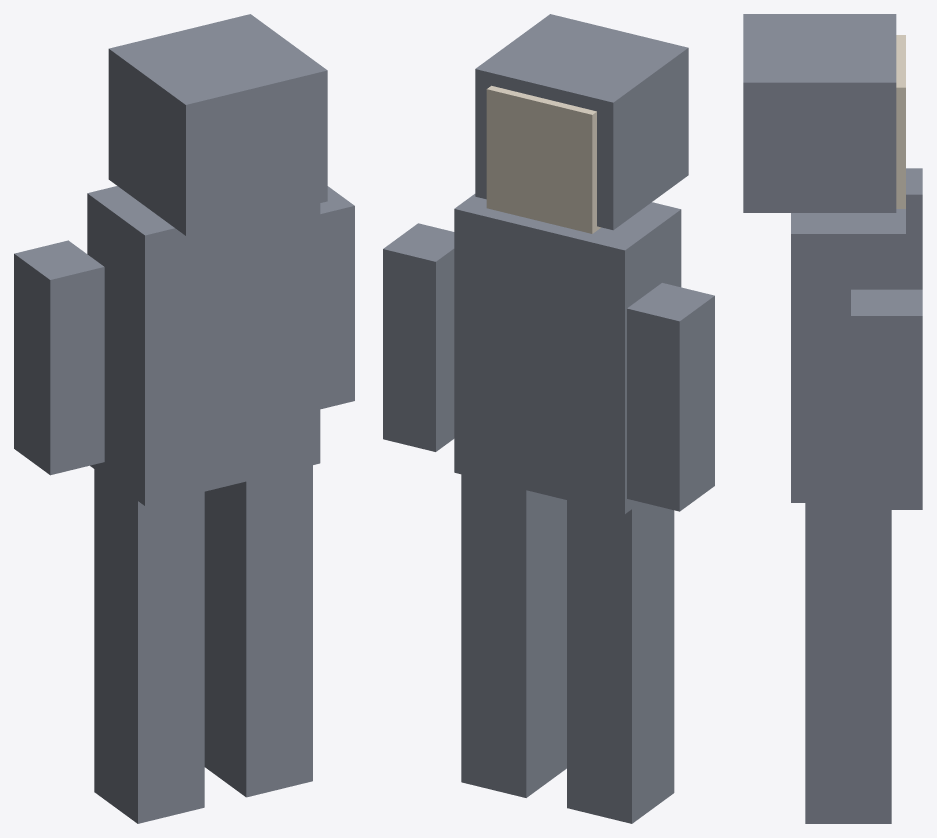
Rendered from npc_kapuze.glb.
3 renders of one model, left to right at view 1: azimuth 30°, elevation 25°; view 2: azimuth 150°, elevation 25°; view 3: azimuth 270°, elevation 25°, orthographic. The views are drawn at different scales.
Parts seen in each view (by area): view 1: rumpf, kapuze, bein_links, bein_rechts, arm_links, arm_rechts; view 2: rumpf, bein_links, bein_rechts, kapuze, arm_links, arm_rechts, kopf; view 3: kapuze, bein_rechts, rumpf, arm_rechts, arm_links, kopf.
Boxes of the visible parts, x1=… form: rumpf: x1=87, y1=186, x2=320, y2=505; kapuze: x1=108, y1=14, x2=327, y2=235; bein_links: x1=94, y1=469, x2=204, y2=823; bein_rechts: x1=204, y1=465, x2=312, y2=797; arm_links: x1=14, y1=240, x2=104, y2=475; arm_rechts: x1=320, y1=186, x2=354, y2=409; rumpf: x1=454, y1=194, x2=681, y2=514; bein_links: x1=567, y1=500, x2=674, y2=823; bein_rechts: x1=461, y1=474, x2=566, y2=797; kapuze: x1=475, y1=14, x2=688, y2=230; arm_links: x1=627, y1=283, x2=714, y2=511; arm_rechts: x1=383, y1=223, x2=454, y2=451; kopf: x1=486, y1=85, x2=600, y2=233; kapuze: x1=743, y1=14, x2=896, y2=212; bein_rechts: x1=805, y1=503, x2=891, y2=823; rumpf: x1=791, y1=209, x2=905, y2=502; arm_rechts: x1=851, y1=289, x2=922, y2=509; arm_links: x1=906, y1=168, x2=922, y2=289; kopf: x1=896, y1=35, x2=905, y2=208.
Bounding box in the file's own units: 0.73 × 1.69 × 0.375.
